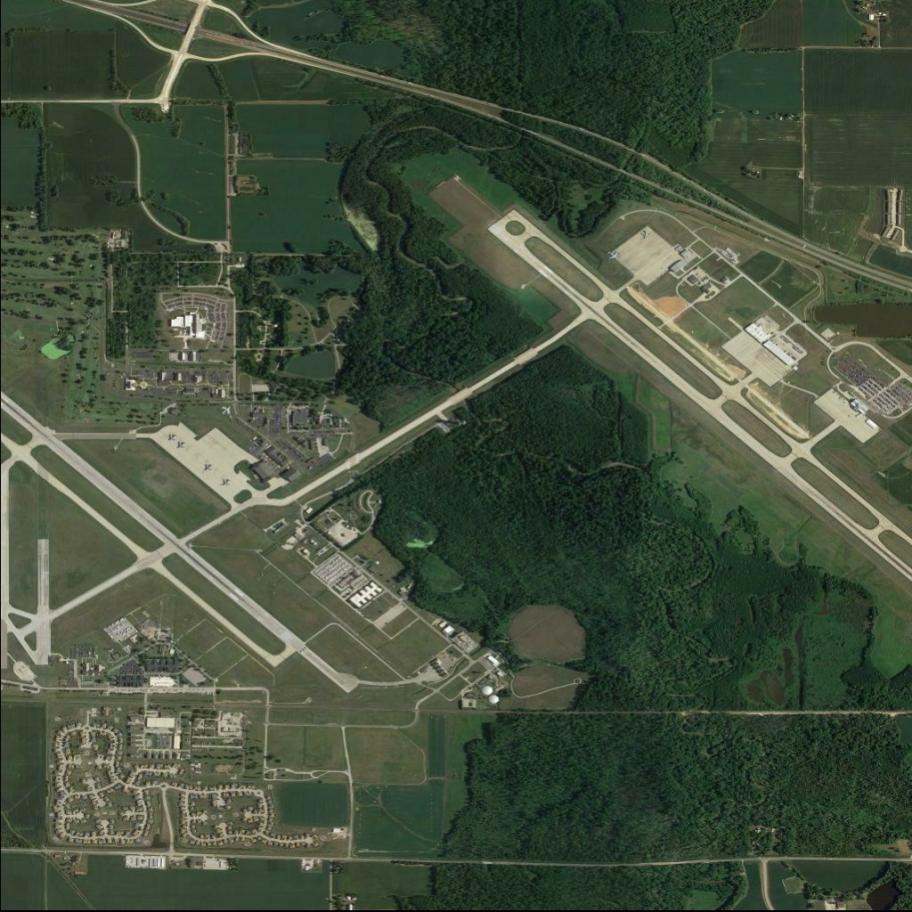storage-tank: (482, 685, 493, 696), (489, 696, 500, 704)
